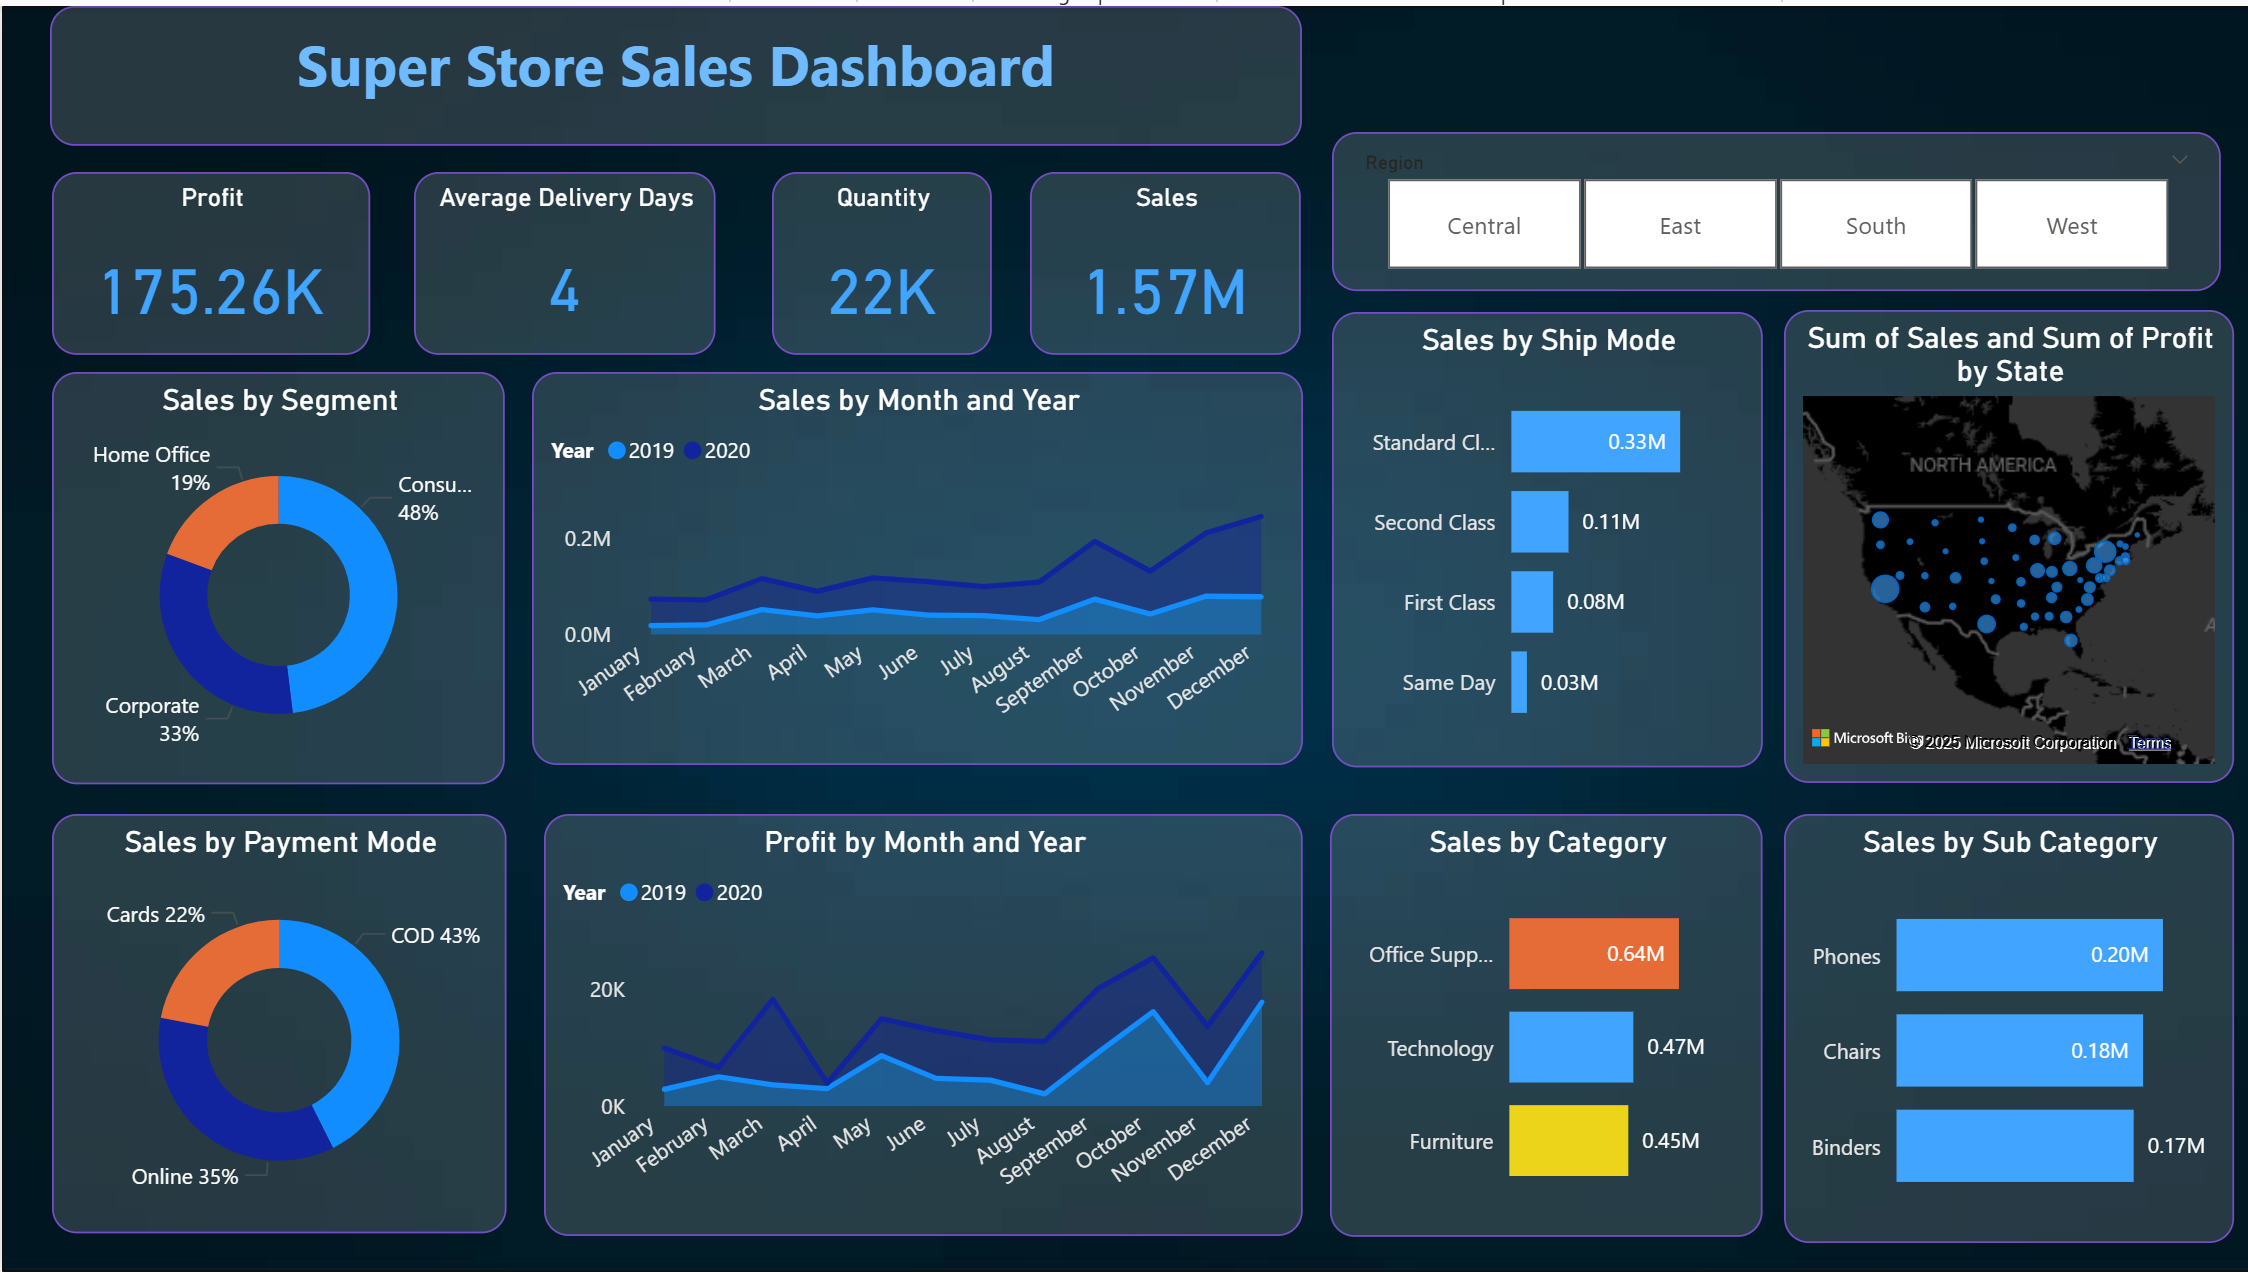

Layout of this report page (visuals, bound fields, positions):
{"tool":"powerbi","page":{"name":"Page 1","canvas":[1280,720],"ordinal":0},"visuals":[{"type":"clusteredBarChart","title":"Sales by Category","fields":{"Category":["SuperStore_Sales_Dataset.Category"],"Y":["Sum(SuperStore_Sales_Dataset.Sales)"]},"box":[755.8,459.6,246.2,240.4],"z":0},{"type":"clusteredBarChart","title":"Sales by Sub Category","fields":{"Category":["SuperStore_Sales_Dataset.Sub-Category"],"Y":["Sum(SuperStore_Sales_Dataset.Sales)"]},"box":[1013.5,459.6,255.8,244.2],"z":1000},{"type":"clusteredBarChart","title":"Sales by Ship Mode","fields":{"Category":["SuperStore_Sales_Dataset.Ship Mode"],"Y":["Sum(SuperStore_Sales_Dataset.Sales)"]},"box":[756.2,173.8,245,258.8],"z":2000},{"type":"stackedAreaChart","title":"Sales by Month and Year","fields":{"Y":["Sum(SuperStore_Sales_Dataset.Sales)"],"Category":["SuperStore_Sales_Dataset.Order Date.Variation.Date Hierarchy.Month","SuperStore_Sales_Dataset.Order Date.Variation.Date Hierarchy.Day"],"Series":["SuperStore_Sales_Dataset.Order Date.Variation.Date Hierarchy.Year"]},"box":[301.7,208.3,438.3,223.3],"z":3000},{"type":"stackedAreaChart","title":"Profit by Month and Year","fields":{"Category":["SuperStore_Sales_Dataset.Order Date.Variation.Date Hierarchy.Month","SuperStore_Sales_Dataset.Order Date.Variation.Date Hierarchy.Day"],"Series":["SuperStore_Sales_Dataset.Order Date.Variation.Date Hierarchy.Year"],"Y":["Sum(SuperStore_Sales_Dataset.Profit)"]},"box":[308.3,460,431.7,240],"z":4000},{"type":"map","fields":{"Category":["SuperStore_Sales_Dataset.State"],"Size":["Sum(SuperStore_Sales_Dataset.Sales)"]},"box":[1013.5,173.1,255.8,269.2],"z":5000},{"type":"donutChart","title":"Sales by Segment","fields":{"Category":["SuperStore_Sales_Dataset.Segment"],"Y":["Sum(SuperStore_Sales_Dataset.Sales)"]},"box":[28.8,207.7,257.7,234.6],"z":6000},{"type":"slicer","fields":{"Values":["SuperStore_Sales_Dataset.Region"]},"box":[756.6,71.7,505.7,90.6],"z":7000},{"type":"textbox","box":[27.6,0,712,79.6],"z":8000},{"type":"donutChart","title":"Sales by Payment Mode","fields":{"Category":["SuperStore_Sales_Dataset.Payment Mode"],"Y":["Sum(SuperStore_Sales_Dataset.Sales)"]},"box":[28.3,460,258.3,238.3],"z":9000},{"type":"cardVisual","title":"Sales","fields":{"Data":["Sum(SuperStore_Sales_Dataset.Sales)"]},"box":[584.6,94.2,153.8,103.8],"z":10000},{"type":"cardVisual","title":"Quantity","fields":{"Data":["Sum(SuperStore_Sales_Dataset.Quantity)"]},"box":[438.5,94.2,125,103.8],"z":11000},{"type":"cardVisual","title":"Profit","fields":{"Data":["Sum(SuperStore_Sales_Dataset.Profit)"]},"box":[28.8,94.2,180.8,103.8],"z":12000},{"type":"cardVisual","title":"Average Delivery Days","fields":{"Data":["Avg(SuperStore_Sales_Dataset.Average Delivery)"]},"box":[234,94.3,171.7,103.8],"z":13000}]}

Visuals, with their boxes in screenshot pixels (x1, y1, x2, y2), scaled from the page's 1280x720 canvas onto the 2248x1272 screenshot:
"Sales by Category" clusteredBarChart: select_region(1327, 812, 1760, 1237)
"Sales by Sub Category" clusteredBarChart: select_region(1780, 812, 2229, 1243)
"Sales by Ship Mode" clusteredBarChart: select_region(1328, 307, 1758, 764)
"Sales by Month and Year" stackedAreaChart: select_region(530, 368, 1300, 762)
"Profit by Month and Year" stackedAreaChart: select_region(541, 813, 1300, 1237)
map - SuperStore_Sales_Dataset.State x Sum(SuperStore_Sales_Dataset.Sales): select_region(1780, 306, 2229, 781)
"Sales by Segment" donutChart: select_region(51, 367, 503, 781)
slicer - SuperStore_Sales_Dataset.Region: select_region(1329, 127, 2217, 287)
textbox: select_region(48, 0, 1299, 141)
"Sales by Payment Mode" donutChart: select_region(50, 813, 503, 1234)
"Sales" cardVisual: select_region(1027, 166, 1297, 350)
"Quantity" cardVisual: select_region(770, 166, 990, 350)
"Profit" cardVisual: select_region(51, 166, 368, 350)
"Average Delivery Days" cardVisual: select_region(411, 167, 713, 350)
